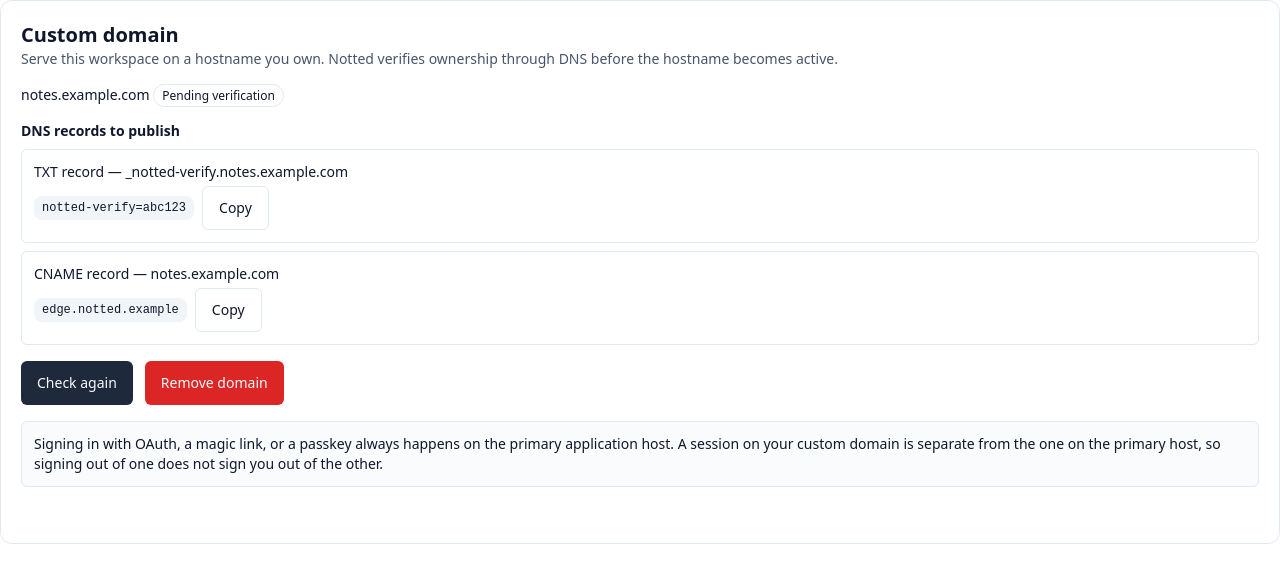
CustomDomainSettings › removes the domain and returns to the empty form
What coordinates should you click on to do the following:
click the button "Remove domain"
I would click on:
 (214, 383)
Its box is x1=145 y1=361 x2=284 y2=405.
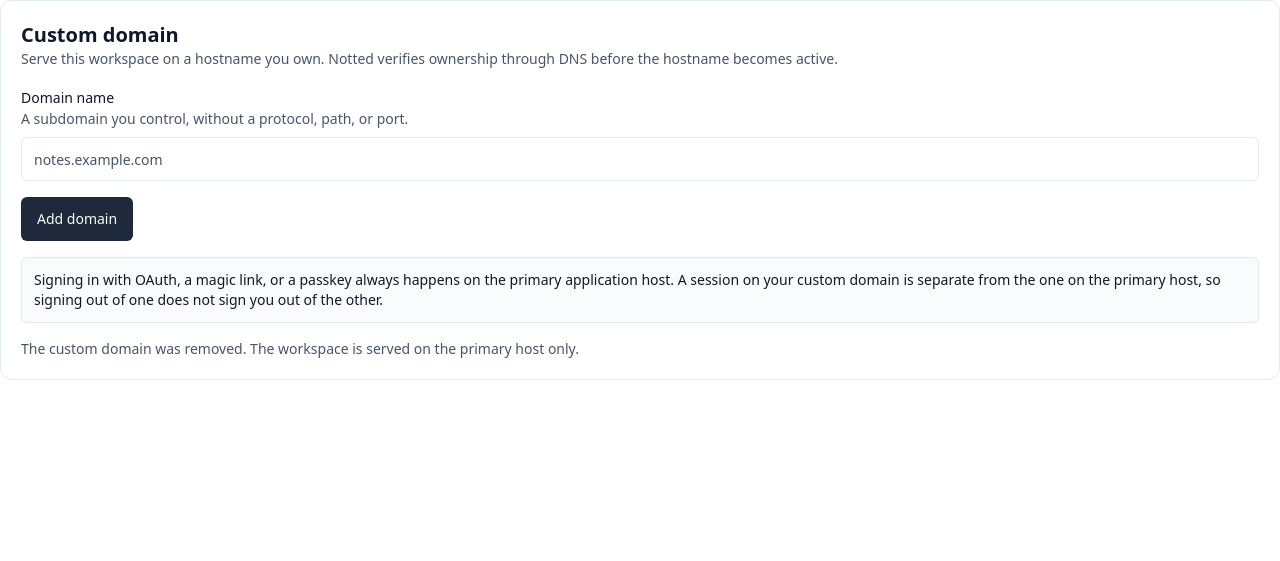
Result: the field labelled "Domain name" is shown at x1=21 y1=137 x2=1259 y2=181
Result: the text "served on the primary host only" is shown at x1=21 y1=339 x2=579 y2=358
